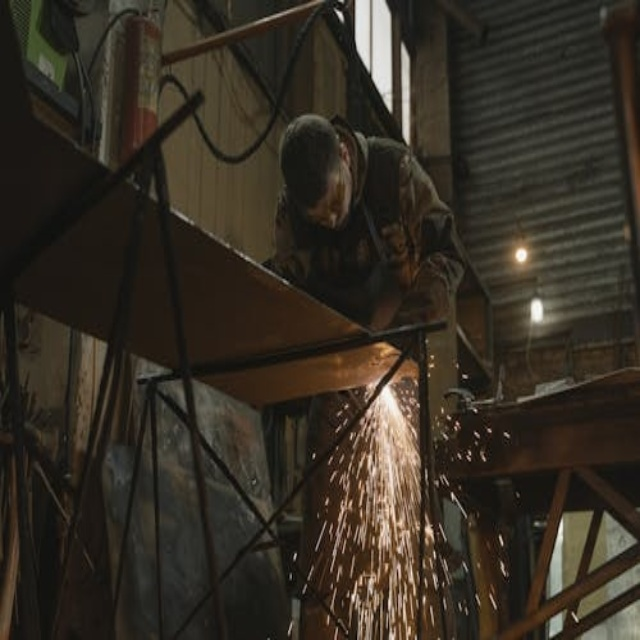Gafas: (298, 148, 349, 233)
